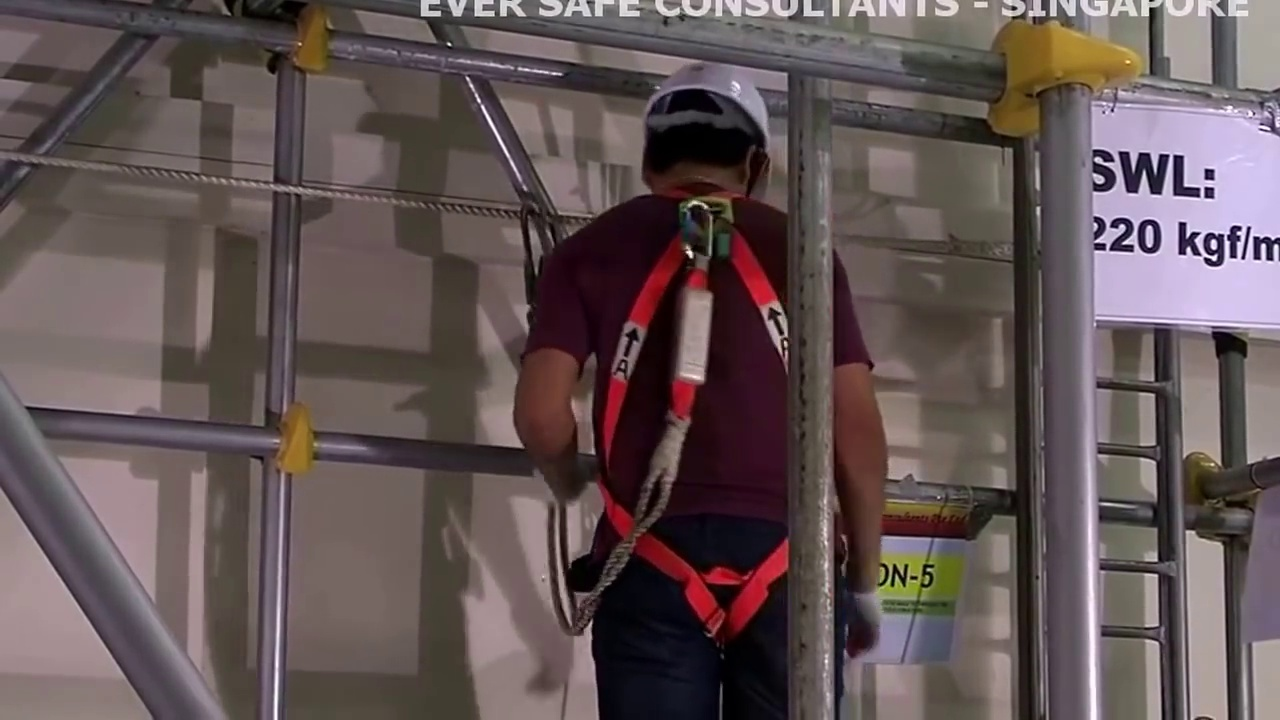harness: (623, 219, 790, 622)
helmet: (647, 58, 764, 122)
hook: (513, 196, 557, 260)
leash: (538, 505, 597, 638)
